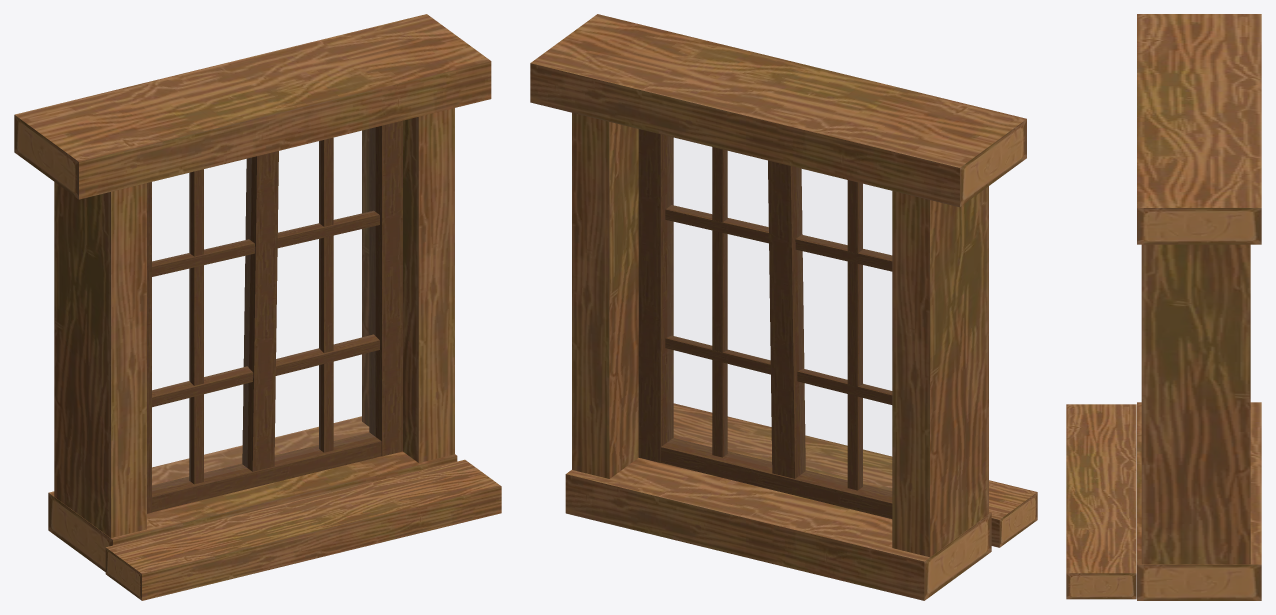
File: window_wide_flat1.glb
The picture shows the model from 3 angles, left to right: view 1: azimuth 30°, elevation 25°; view 2: azimuth 150°, elevation 25°; view 3: azimuth 270°, elevation 25°; orthographic projection. The views are drawn at different scales.
Bounding box in the file's own units: 1.61 × 1.58 × 0.6834.
Materials: 2 (1 with a texture image).
